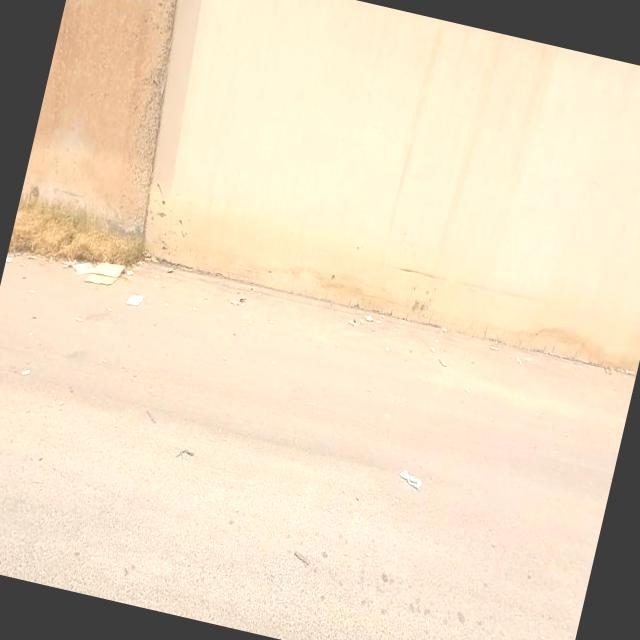debris: (300, 266, 423, 401), (75, 230, 194, 359), (360, 418, 450, 531), (195, 253, 286, 356)
